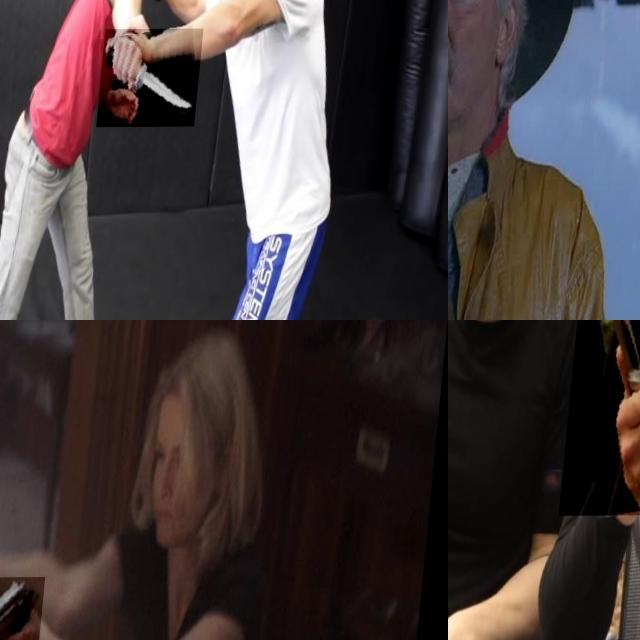-: (568, 320, 640, 516), (102, 29, 208, 128)
gun-knife-thesis - v11 Yolov5 augmented: (448, 28, 525, 230), (0, 498, 59, 631), (0, 577, 55, 640)
